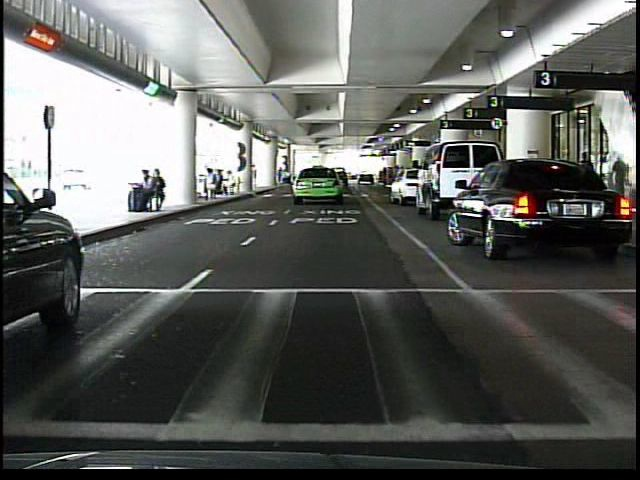person: (573, 148, 597, 211)
